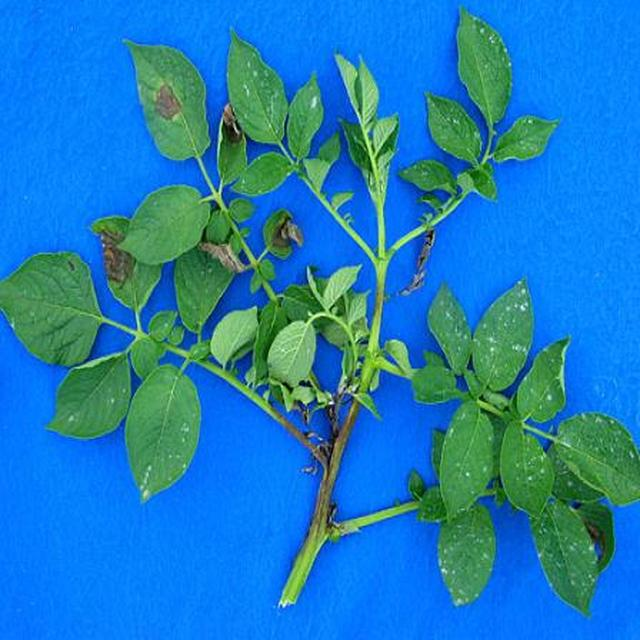Late Blight Leaf: (115, 142, 238, 380)
